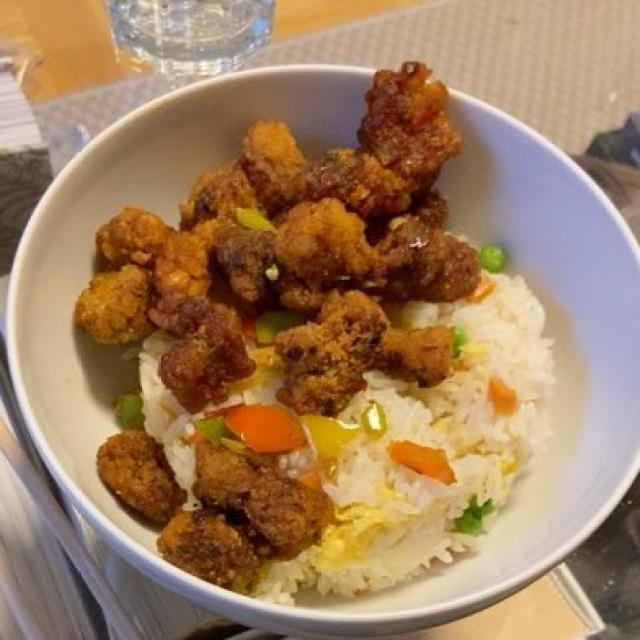fish: (66, 51, 466, 583)
fried-rice: (268, 282, 564, 595)
mixed-vegetables: (202, 306, 404, 575)
